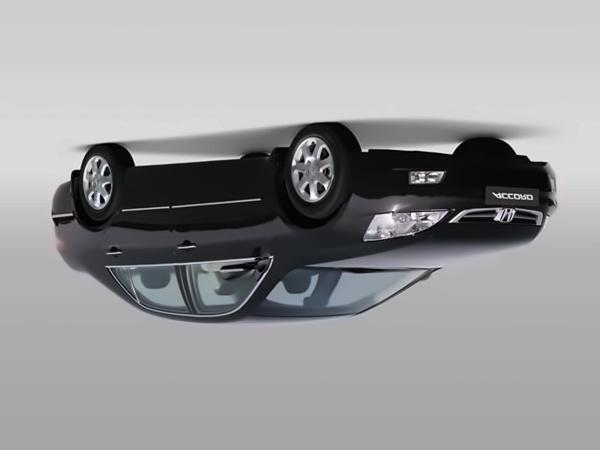Car hood: (309, 232, 541, 270)
Fender - -F-L-: (266, 154, 367, 260)
Fender - -R-L-: (72, 167, 131, 270)
Front bumper: (351, 149, 561, 234)
Headlight - -L-: (357, 207, 451, 244)
Passenger-s door - -F-L-: (174, 159, 278, 324)
Passenger-s door - -R-L-: (104, 165, 178, 320)
Rear bumper: (47, 178, 86, 222)
Side bumper - -L-: (117, 153, 291, 190)
Side mirror - -L-: (216, 252, 270, 287)
